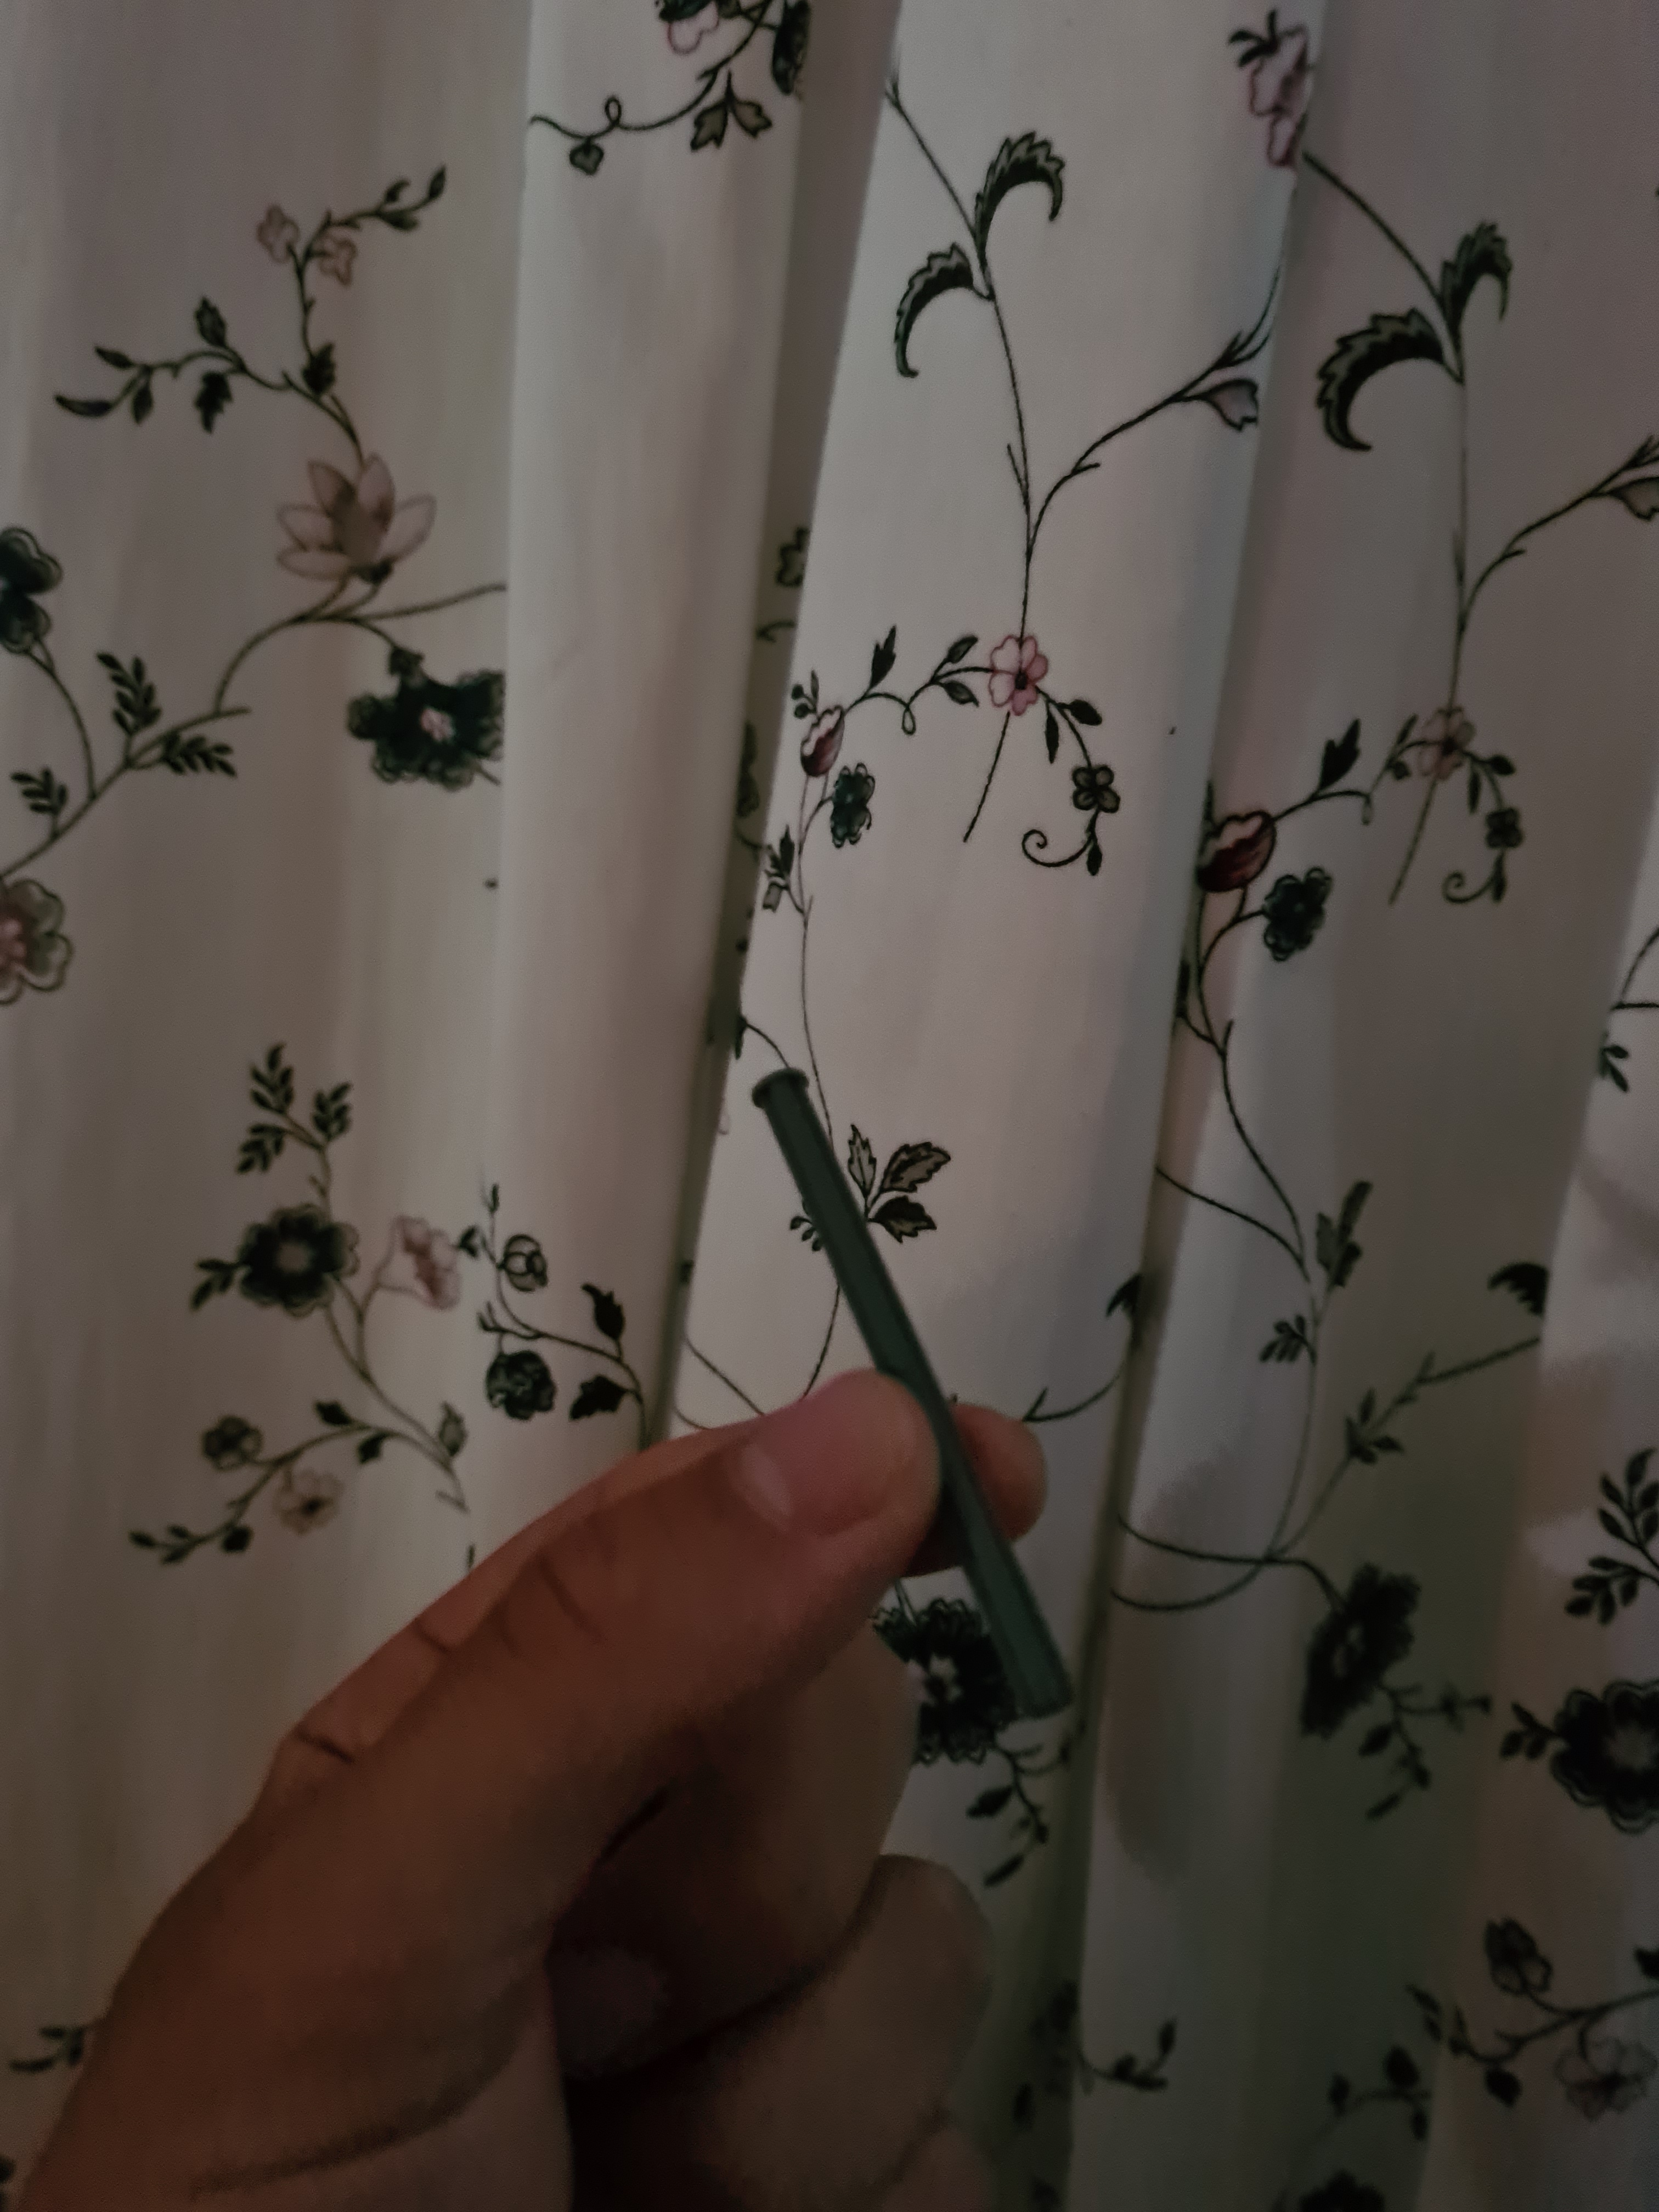Grau_lang: (730, 1033, 1100, 1757)
